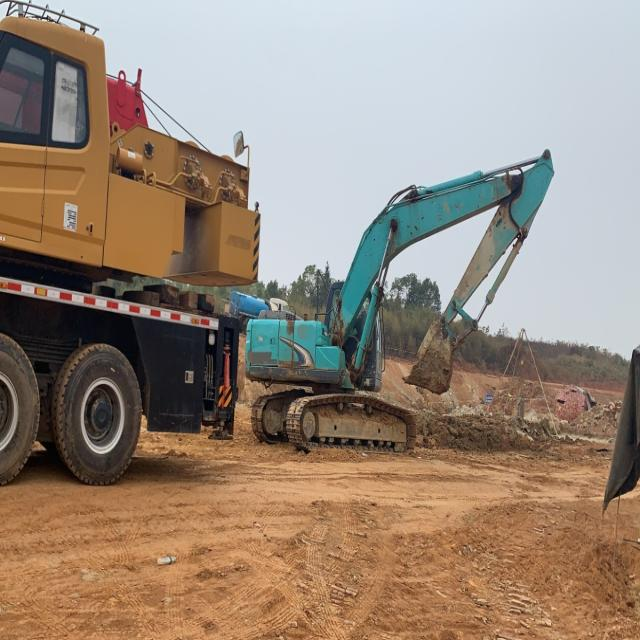crane: (0, 0, 260, 485)
excavator: (244, 148, 554, 455)
